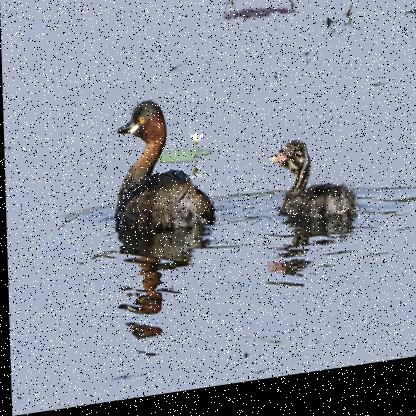Burung: (111, 96, 213, 246)
